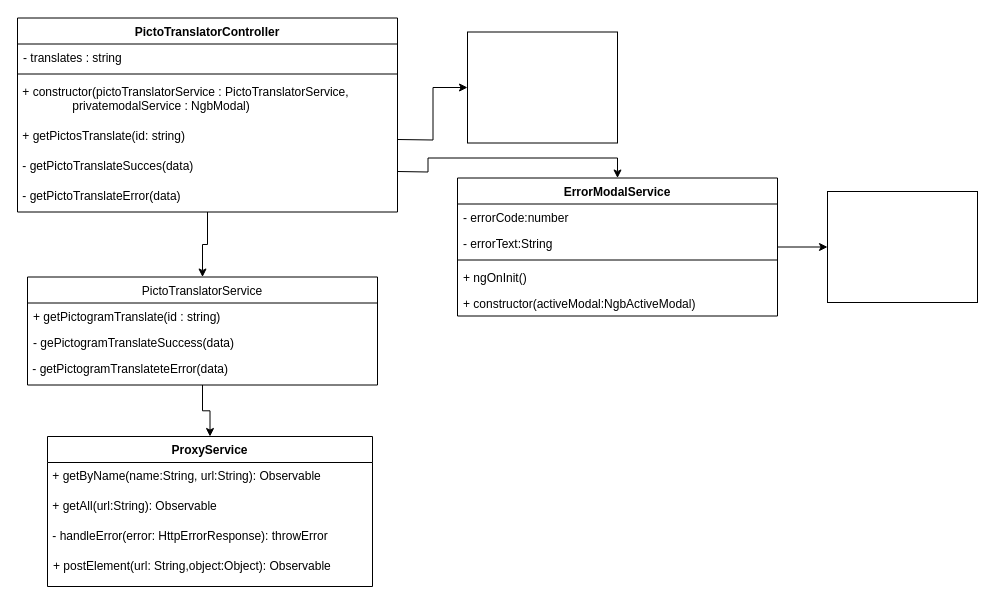
This 995x606 diagram has some shape labels left out. The shapes that lost their labels are listed below. From the top down, each one's centre as x and y in pixels, then its label:
At pixel 542 87: "Translator.html".
At pixel 902 246: "Error-Modal.html".
